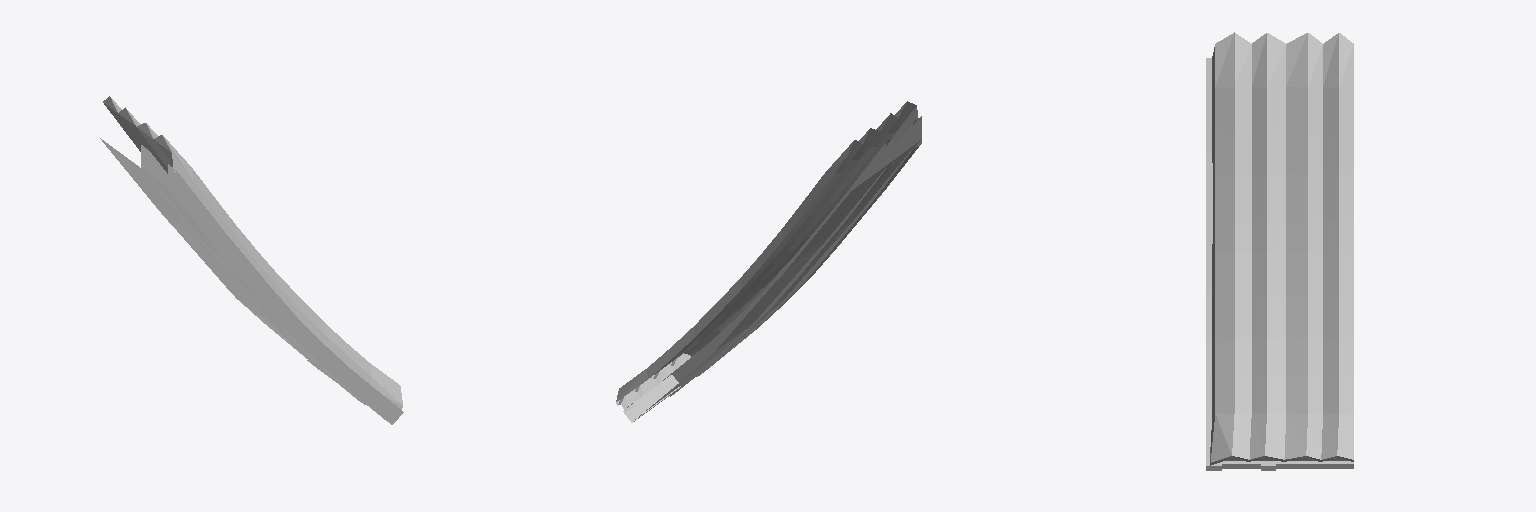
Rendered from Roof_Modular_RoundTiles_6_L_Half.obj.
3 views of the same model, side by side, from view 1: azimuth 30°, elevation 25°; view 2: azimuth 150°, elevation 25°; view 3: azimuth 270°, elevation 25° (orthographic).
Parts seen in each view (by area): view 1: Roof_Modular_RoundTiles_6_L_Half; view 2: Roof_Modular_RoundTiles_6_L_Half; view 3: Roof_Modular_RoundTiles_6_L_Half.
Boxes of the visible parts, x1=… form: Roof_Modular_RoundTiles_6_L_Half: x1=100, y1=96, x2=403, y2=424; Roof_Modular_RoundTiles_6_L_Half: x1=616, y1=101, x2=921, y2=422; Roof_Modular_RoundTiles_6_L_Half: x1=1206, y1=32, x2=1353, y2=470.
Size of the model in its own units: 4.19 by 5.55 by 2.23.